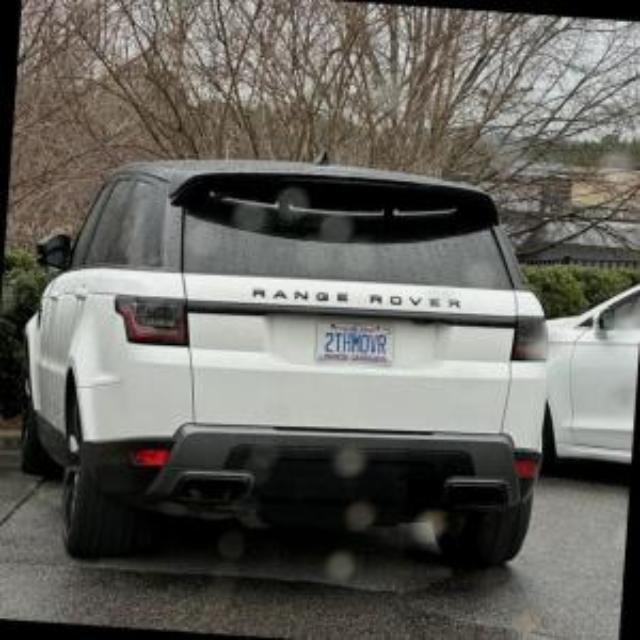License Plate: (313, 318, 394, 366)
